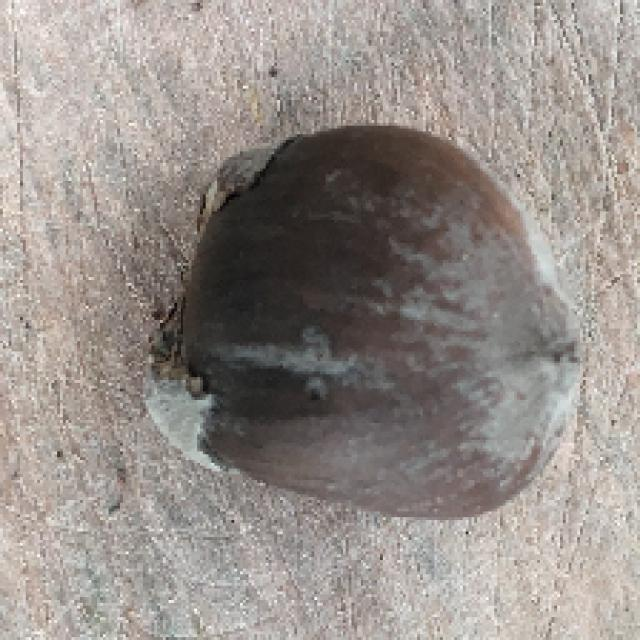DamagedHazelnut: (141, 127, 589, 519)
